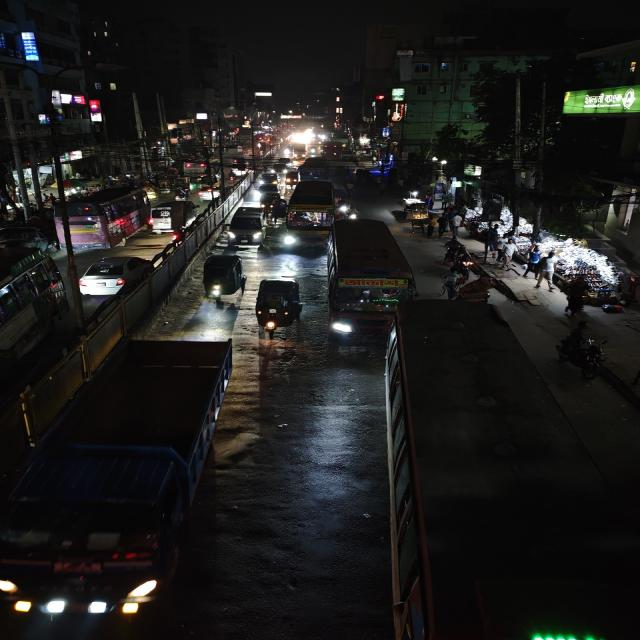bus: (382, 299, 640, 640), (322, 218, 418, 354), (0, 245, 62, 413), (43, 184, 150, 247), (280, 178, 338, 250)
car: (75, 251, 158, 299), (226, 205, 270, 248), (148, 200, 188, 234), (253, 182, 282, 202)
cng: (469, 568, 639, 640), (253, 276, 303, 338), (198, 252, 248, 308), (284, 170, 300, 186)
motorcycle: (554, 333, 612, 382), (444, 240, 477, 280)
pedestrian: (561, 289, 588, 317)
pickup_van: (3, 338, 237, 630)
rickshaw: (453, 272, 500, 302), (403, 204, 431, 234)
